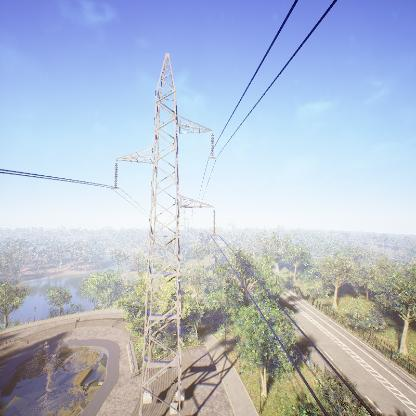tower: (106, 48, 220, 416)
